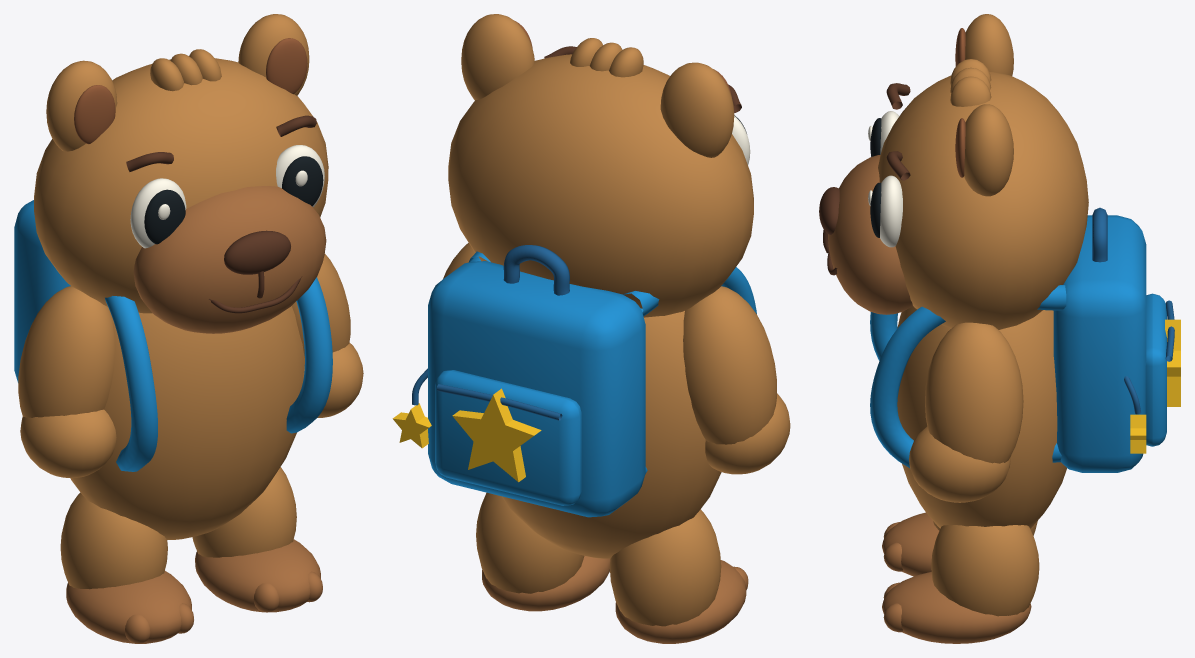
Rendered from mascot.glb.
3 renders of one model, left to right at view 1: azimuth 30°, elevation 25°; view 2: azimuth 150°, elevation 25°; view 3: azimuth 270°, elevation 25°, orthographic. The views are drawn at different scales.
Visible parts, largest first — view 1: head, body, muzzle, arm_-1, leg_-1, foot_1, foot_-1, paw_-1, backpack_strap_-1, leg_1, backpack, backpack_strap_1 (+18 smaller); view 2: head, backpack, body, arm_-1, backpack_front_pocket, leg_-1, leg_1, ear_-1, ear_1, backpack_star, foot_-1, paw_-1 (+8 smaller); view 3: head, backpack, body, arm_1, leg_1, muzzle, foot_1, backpack_strap_1, paw_1, ear_1, backpack_front_pocket, ear_-1 (+9 smaller).
Part boxes in pixels (<box>): head: <box>34,58,328,313</box>; body: <box>70,306,304,539</box>; muzzle: <box>133,186,326,333</box>; arm_-1: <box>18,286,114,417</box>; leg_-1: <box>60,492,167,589</box>; foot_1: <box>195,539,320,612</box>; foot_-1: <box>66,571,191,643</box>; paw_-1: <box>20,409,116,478</box>; backpack_strap_-1: <box>105,296,157,471</box>; leg_1: <box>192,467,296,557</box>; backpack: <box>14,200,70,382</box>; backpack_strap_1: <box>286,277,332,433</box>; head: <box>448,54,753,317</box>; backpack: <box>428,261,645,517</box>; body: <box>502,311,721,558</box>; arm_-1: <box>683,286,776,444</box>; backpack_front_pocket: <box>435,370,581,505</box>; leg_-1: <box>609,509,721,626</box>; leg_1: <box>476,492,584,593</box>; ear_-1: <box>660,62,734,157</box>; ear_1: <box>461,14,534,100</box>; backpack_star: <box>452,388,541,482</box>; foot_-1: <box>615,560,746,643</box>; paw_-1: <box>705,393,790,474</box>; head: <box>878,71,1088,329</box>; backpack: <box>1053,215,1146,472</box>; body: <box>897,306,1066,528</box>; arm_1: <box>925,322,1023,463</box>; leg_1: <box>931,525,1039,616</box>; muzzle: <box>828,155,912,314</box>; foot_1: <box>882,572,1031,643</box>; backpack_strap_1: <box>870,285,1066,467</box>; paw_1: <box>909,427,1010,502</box>; ear_1: <box>964,104,1013,196</box>; backpack_front_pocket: <box>1145,293,1166,446</box>; ear_-1: <box>965,14,1013,75</box>.
Size of the model in its own units: 1.14 by 1.88 by 1.14.
